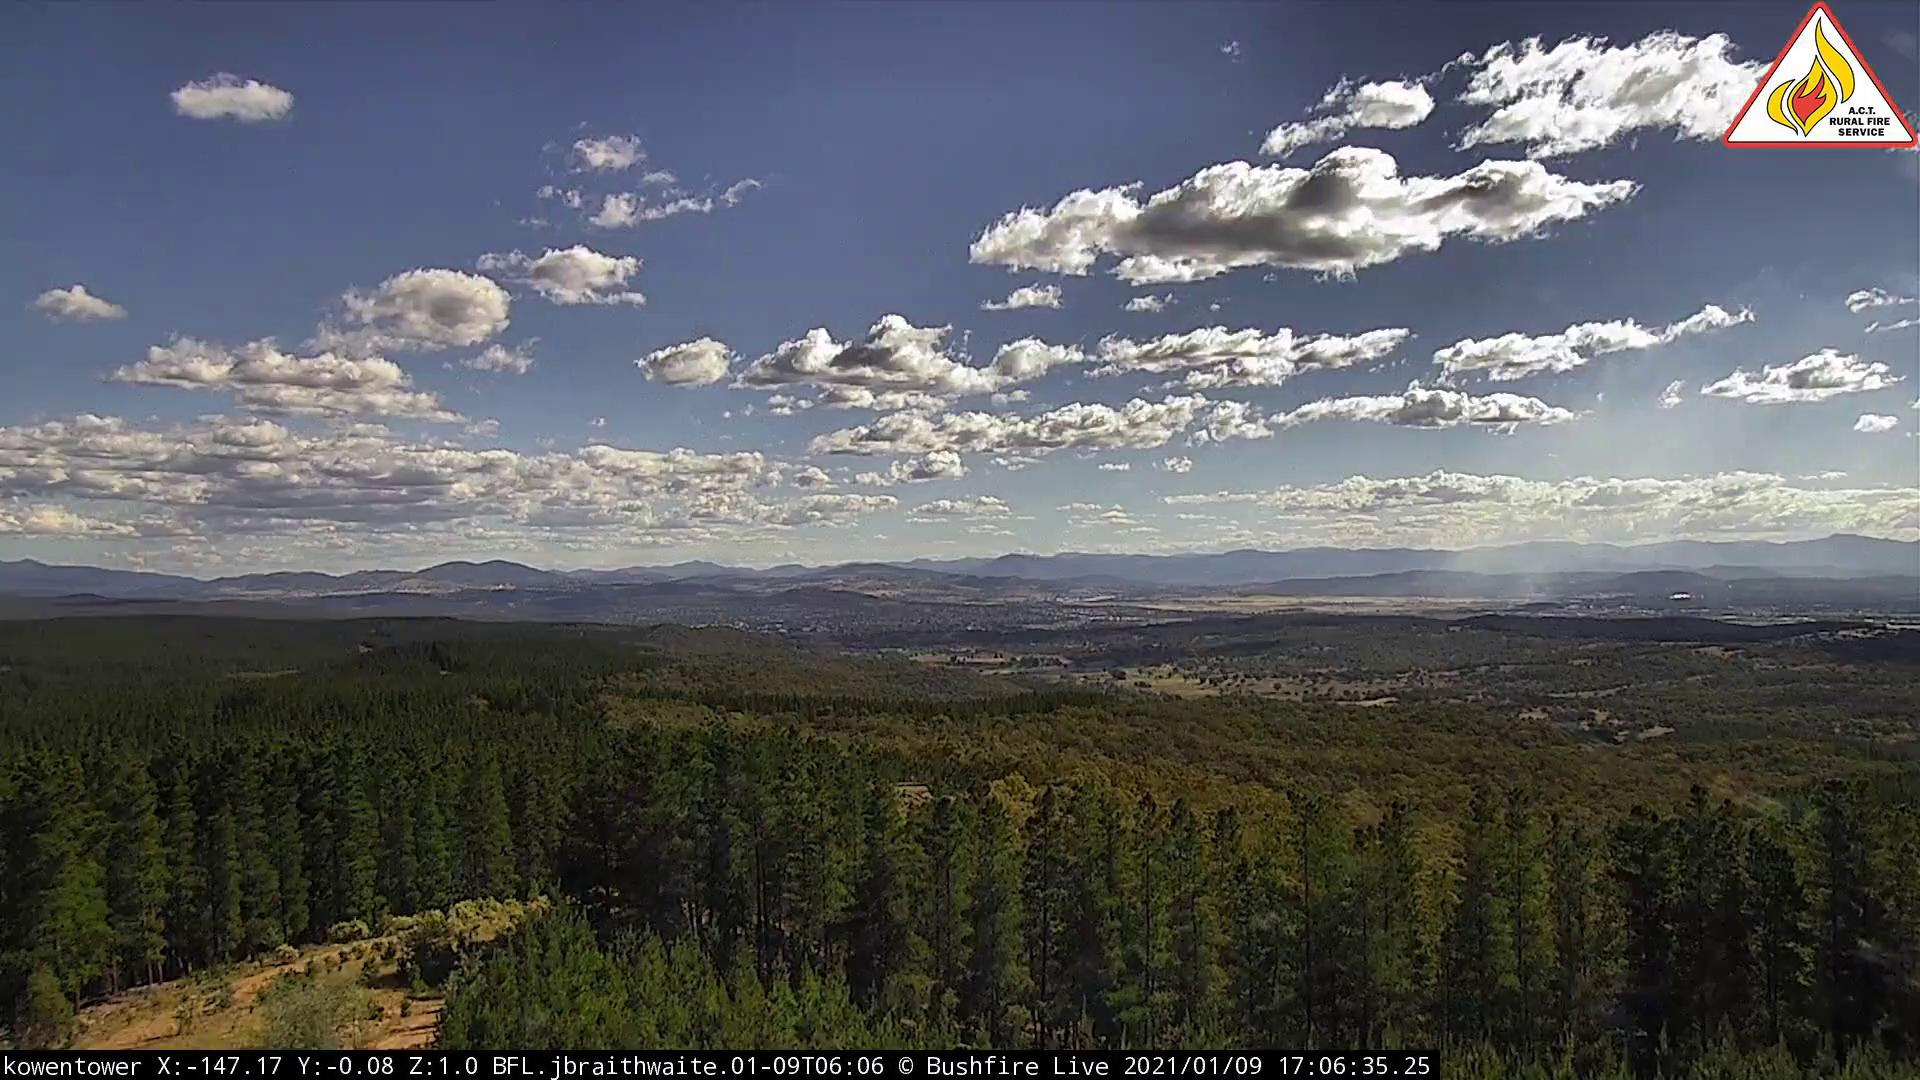instance_salient_object: (1403, 531, 1602, 609)
